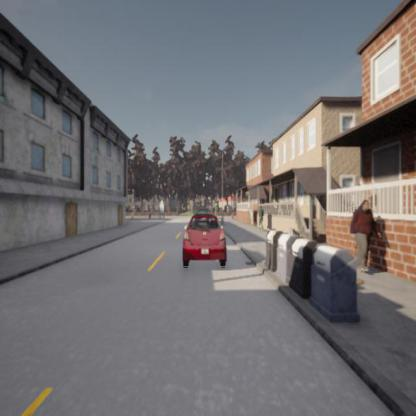person: (349, 200, 376, 271)
vehicle: (182, 212, 227, 266)
